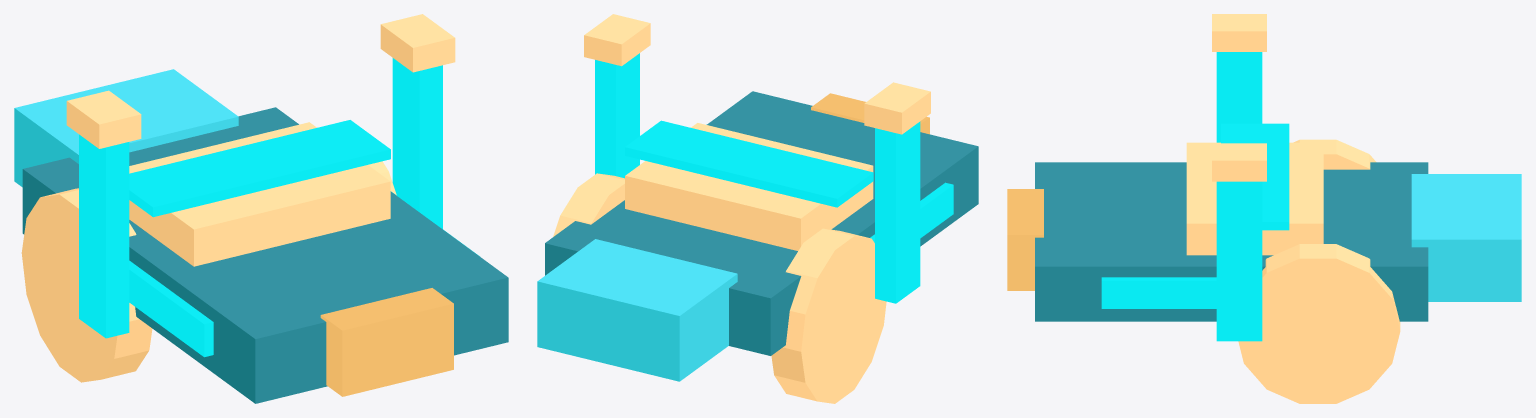
File: bike_interceptor.glb
3 views of the same model, side by side, from view 1: azimuth 30°, elevation 25°; view 2: azimuth 150°, elevation 25°; view 3: azimuth 270°, elevation 25° (orthographic). The views are drawn at different scales.
Visible parts, largest first — view 1: chassis, canopy_wheel, glow_strip_roof, wheel_l, emitter, body_nose, wheel_pylon, wheel_pylon.001, glow_strip_side, wheel_pylon_cap.001, wheel_pylon_cap; view 2: chassis, body_nose, wheel_l, canopy_wheel, glow_strip_roof, wheel_pylon, wheel_pylon.001, wheel_pylon_cap, wheel_pylon_cap.001, wheel_r, glow_strip_side, emitter; view 3: chassis, wheel_r, body_nose, canopy_wheel, wheel_pylon.001, glow_strip_side.001, glow_strip_roof, wheel_pylon, emitter, wheel_pylon_cap.001, wheel_pylon_cap, wheel_l.
Boxes of the visible parts, x1,y1,x2,y2 form: chassis: (22, 107, 508, 403); canopy_wheel: (129, 122, 390, 266); glow_strip_roof: (129, 120, 390, 217); wheel_l: (21, 188, 152, 382); emitter: (320, 288, 453, 396); body_nose: (14, 69, 238, 187); wheel_pylon: (79, 134, 129, 338); wheel_pylon.001: (392, 58, 442, 228); glow_strip_side: (129, 260, 213, 357); wheel_pylon_cap.001: (380, 14, 455, 72); wheel_pylon_cap: (66, 90, 141, 148); chassis: (545, 91, 978, 355); body_nose: (537, 239, 737, 381); wheel_l: (771, 228, 886, 403); canopy_wheel: (625, 123, 873, 250); glow_strip_roof: (625, 120, 873, 207); wheel_pylon: (875, 121, 920, 303); wheel_pylon.001: (595, 53, 639, 178); wheel_pylon_cap: (864, 82, 930, 134); wheel_pylon_cap.001: (584, 14, 650, 66); wheel_r: (553, 173, 624, 236); glow_strip_side: (870, 182, 953, 242); emitter: (811, 93, 929, 134); chassis: (1035, 162, 1428, 321); wheel_r: (1238, 244, 1400, 403); body_nose: (1411, 174, 1521, 301); canopy_wheel: (1186, 142, 1323, 255); wheel_pylon.001: (1216, 181, 1262, 341); glow_strip_side.001: (1101, 277, 1216, 308); glow_strip_roof: (1221, 123, 1289, 230); wheel_pylon: (1216, 52, 1262, 142); emitter: (1007, 189, 1043, 290); wheel_pylon_cap.001: (1212, 143, 1266, 181); wheel_pylon_cap: (1212, 14, 1266, 51); wheel_l: (1293, 139, 1376, 169).
Bounding box in the file's own units: 0.7596 × 0.6205 × 1.12.
